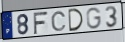3: (105, 6, 119, 29)
8: (16, 13, 30, 36)
C: (50, 11, 67, 32)
D: (67, 8, 85, 33)
F: (32, 11, 49, 35)
G: (85, 7, 102, 30)
